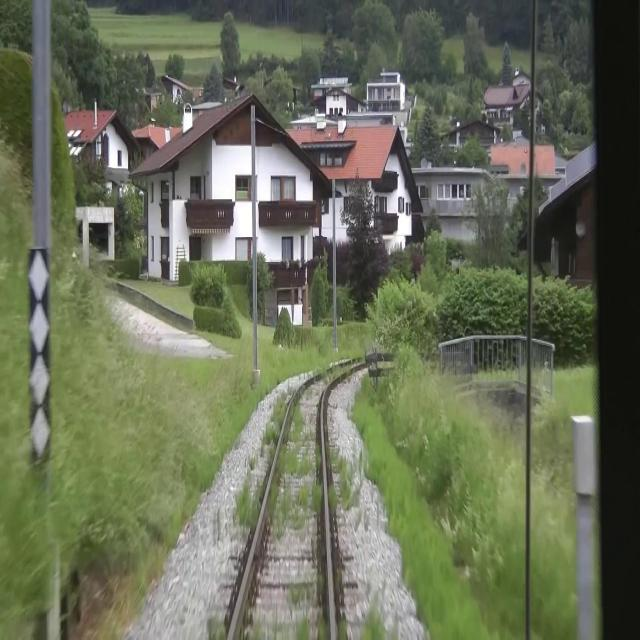rail-track: (233, 364, 351, 639)
